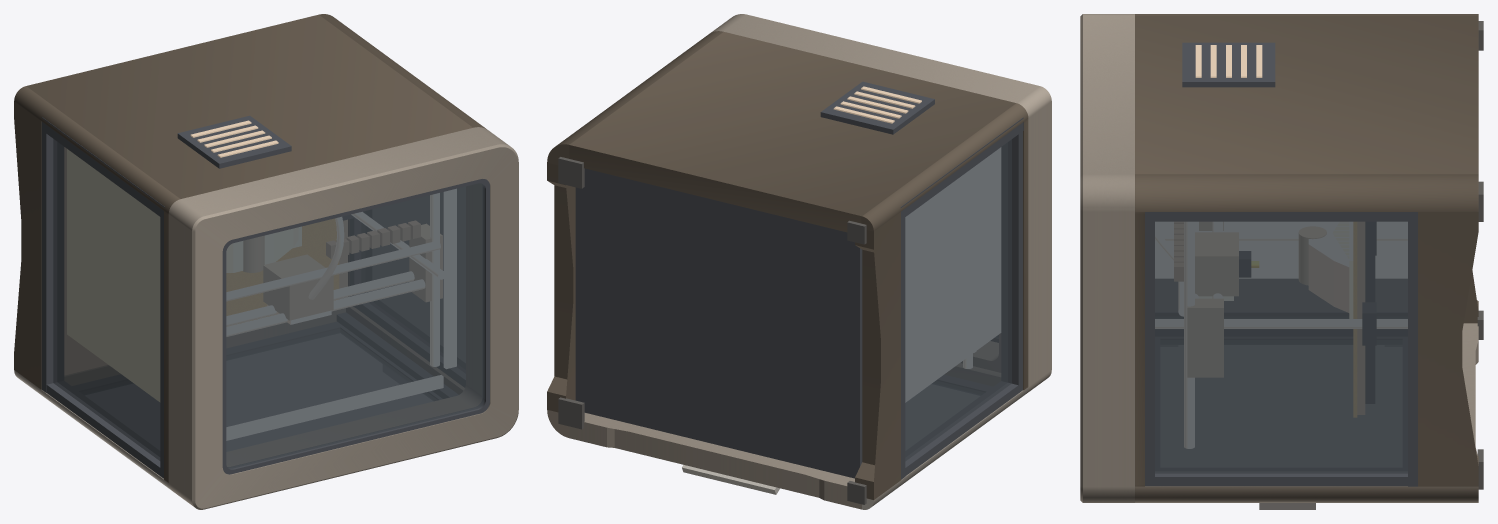
The model's file is deltrol_p2s_true3d_candidate_v3.glb.
The picture shows the model from 3 angles, left to right: view 1: azimuth 30°, elevation 25°; view 2: azimuth 150°, elevation 25°; view 3: azimuth 270°, elevation 25°; orthographic projection. The views are drawn at different scales.
Parts seen in each view (by area): view 1: top_roof_glass, unibody_top_frame, unibody_rear_wall, left_glass_window, interior_left_back_baffle, front_glass_door, unibody_left_skirt, top_rim_outer, left_gasket_bot, right_glass_window, unibody_corner_1, led_bar_front (+25 smaller); view 2: chassis_underpan, unibody_rear_wall, left_glass_window, interior_left_back_baffle, unibody_top_frame, unibody_left_skirt, unibody_front_chin_skirt, unibody_right_skirt, left_gasket_top, unibody_corner_1, left_gasket_f, rear_exhaust_housing (+10 smaller); view 3: right_glass_window, unibody_rear_wall, unibody_top_frame, front_glass_door, unibody_right_skirt, unibody_corner_0, unibody_corner_3, left_glass_window, right_gasket_f, interior_left_back_baffle, rear_exhaust_housing, x_slider_right (+21 smaller).
Part boxes in pixels (x1=…): top_roof_glass: x1=226, y1=183, x2=484, y2=468; unibody_top_frame: x1=168, y1=127, x2=518, y2=509; unibody_rear_wall: x1=26, y1=14, x2=472, y2=198; left_glass_window: x1=53, y1=139, x2=160, y2=460; interior_left_back_baffle: x1=67, y1=149, x2=159, y2=401; front_glass_door: x1=83, y1=332, x2=436, y2=450; unibody_left_skirt: x1=14, y1=101, x2=41, y2=389; top_rim_outer: x1=222, y1=179, x2=489, y2=474; left_gasket_bot: x1=41, y1=122, x2=63, y2=392; right_glass_window: x1=365, y1=187, x2=465, y2=369; unibody_corner_1: x1=14, y1=86, x2=179, y2=213; led_bar_front: x1=227, y1=375, x2=442, y2=439; chassis_underpan: x1=575, y1=168, x2=862, y2=478; unibody_rear_wall: x1=569, y1=32, x2=1016, y2=232; left_glass_window: x1=905, y1=139, x2=1011, y2=461; interior_left_back_baffle: x1=906, y1=148, x2=1000, y2=401; unibody_top_frame: x1=711, y1=14, x2=1051, y2=393; unibody_left_skirt: x1=855, y1=212, x2=900, y2=499; unibody_front_chin_skirt: x1=569, y1=413, x2=861, y2=509; unibody_right_skirt: x1=547, y1=162, x2=575, y2=412; left_gasket_top: x1=1002, y1=131, x2=1022, y2=392; unibody_corner_1: x1=862, y1=103, x2=1028, y2=231; left_gasket_f: x1=905, y1=381, x2=1018, y2=475; rear_exhaust_housing: x1=820, y1=81, x2=934, y2=134; right_glass_window: x1=1155, y1=221, x2=1407, y2=473; unibody_rear_wall: x1=1135, y1=15, x2=1478, y2=174; unibody_top_frame: x1=1080, y1=14, x2=1134, y2=502; front_glass_door: x1=1161, y1=340, x2=1401, y2=466; unibody_right_skirt: x1=1418, y1=212, x2=1478, y2=486; unibody_corner_0: x1=1135, y1=174, x2=1478, y2=211; unibody_corner_3: x1=1135, y1=486, x2=1478, y2=502; left_glass_window: x1=1155, y1=279, x2=1407, y2=315; right_gasket_f: x1=1145, y1=468, x2=1407, y2=486; interior_left_back_baffle: x1=1155, y1=222, x2=1407, y2=277; rear_exhaust_housing: x1=1182, y1=42, x2=1275, y2=87; x_slider_right: x1=1188, y1=299, x2=1223, y2=376.
Size of the model in its own units: 0.415 by 0.3823 by 0.399.
21 materials, 6 textured.
